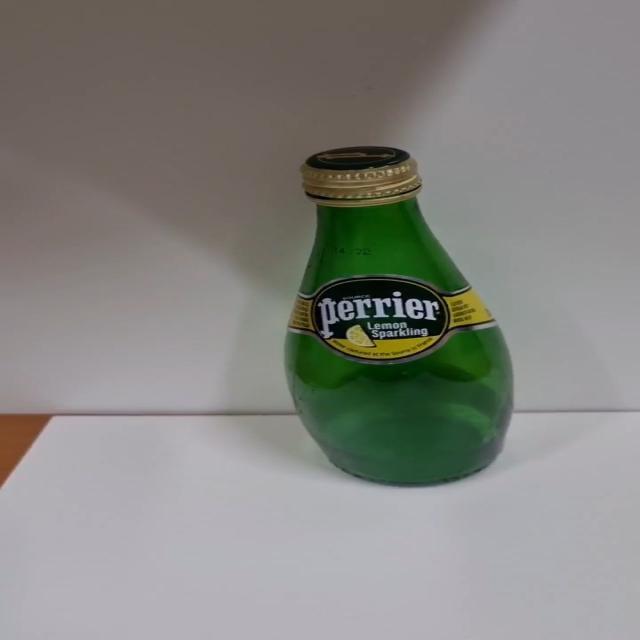Glass: (283, 146, 516, 490)
